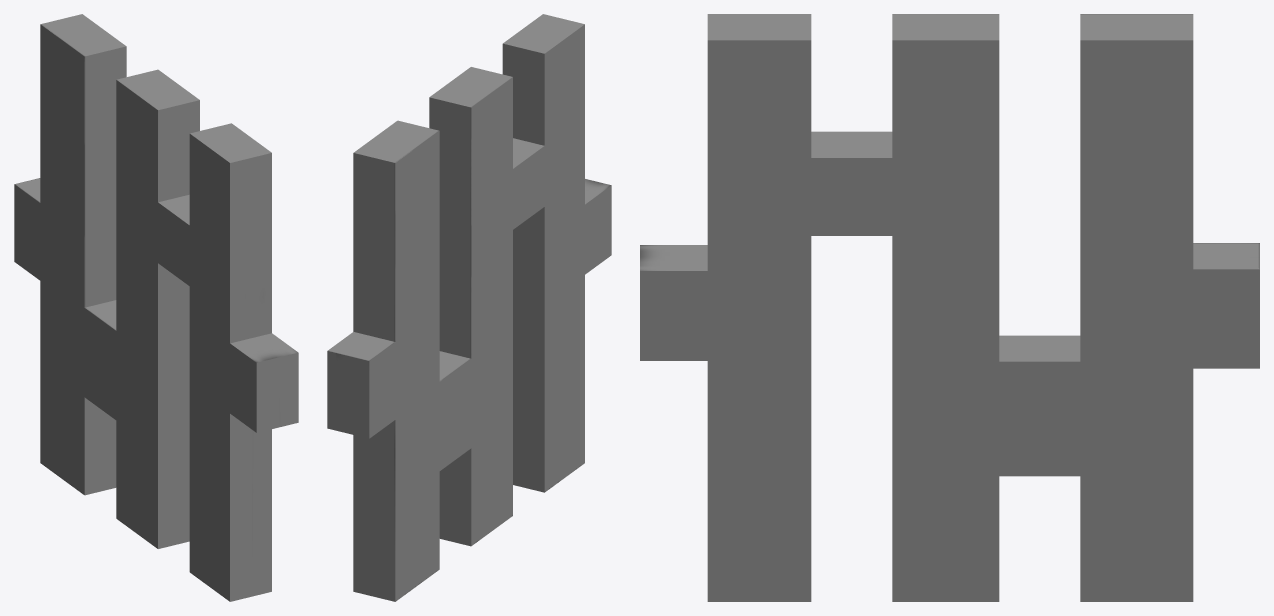
File: IronBar.obj
3 renders of one model, left to right at view 1: azimuth 30°, elevation 25°; view 2: azimuth 150°, elevation 25°; view 3: azimuth 270°, elevation 25°, orthographic. The views are drawn at different scales.
Parts seen in each view (by area): view 1: Cube; view 2: Cube; view 3: Cube.
Part boxes in pixels (x1=…): Cube: x1=14, y1=14, x2=298, y2=601; Cube: x1=327, y1=14, x2=611, y2=601; Cube: x1=640, y1=14, x2=1259, y2=601.
Size of the model in its own units: 0.2 by 2 by 2.
1 material, 1 textured.
